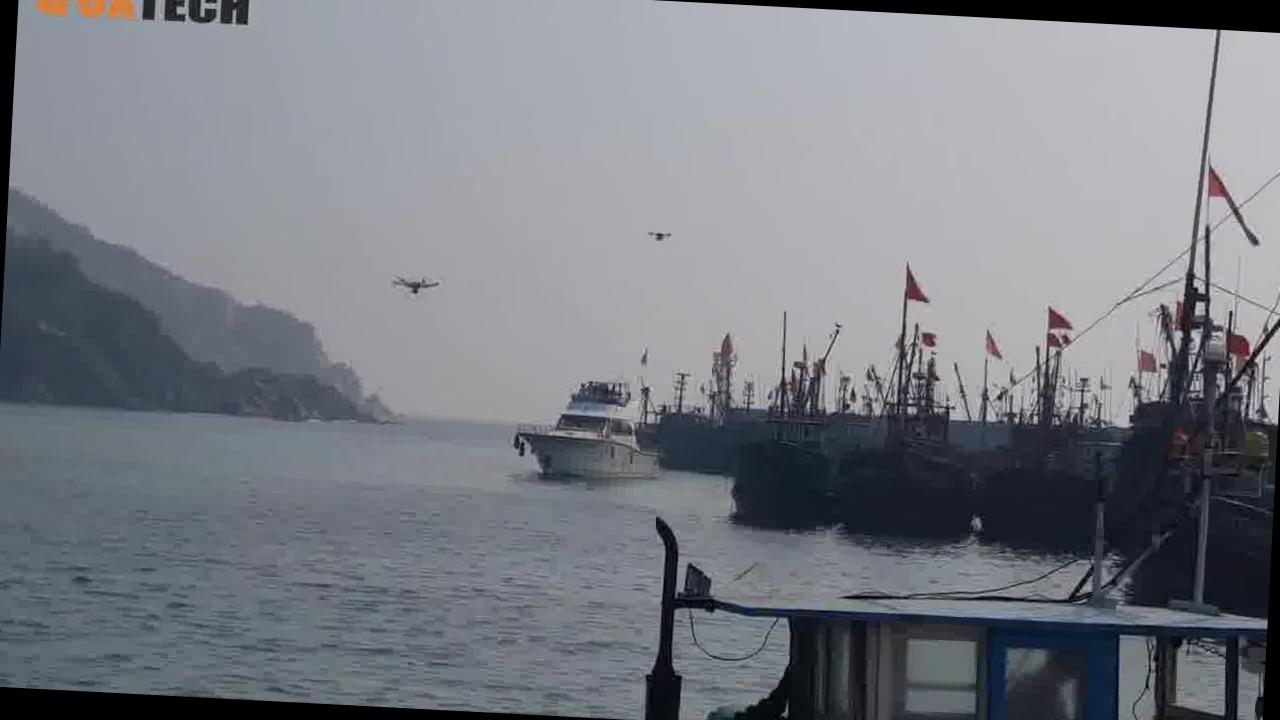drone: (390, 272, 439, 298)
